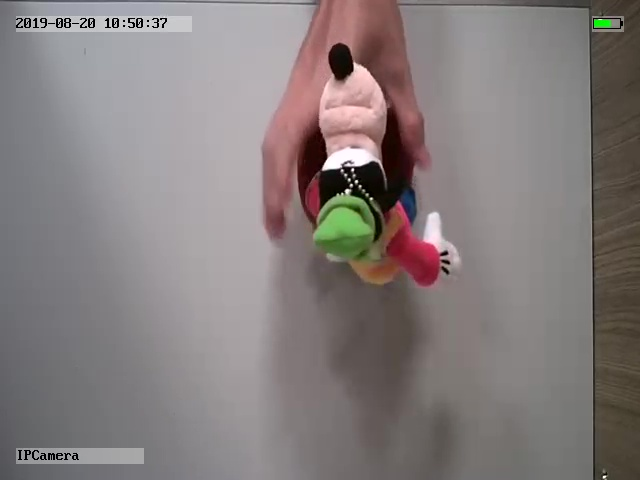goofy: (297, 44, 463, 291)
